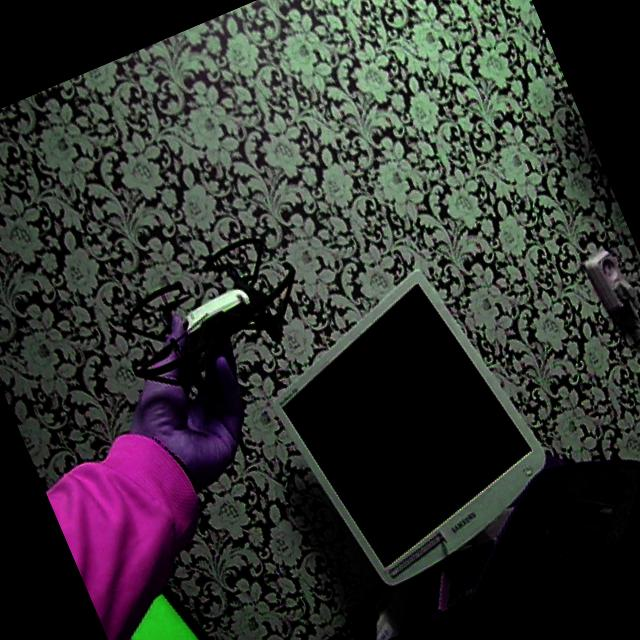drone: (98, 204, 335, 420)
